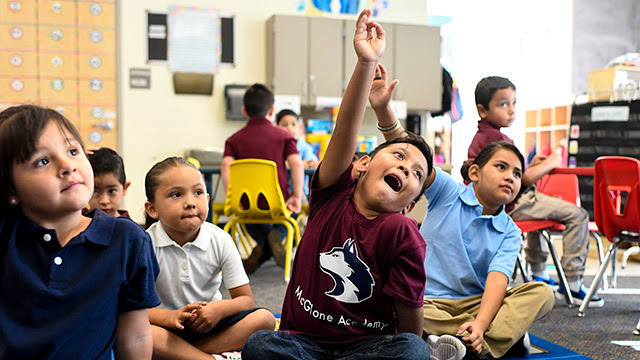student: (1, 110, 99, 213), (362, 136, 443, 216), (142, 160, 222, 239), (468, 143, 532, 209), (468, 72, 536, 132), (78, 151, 131, 219)
